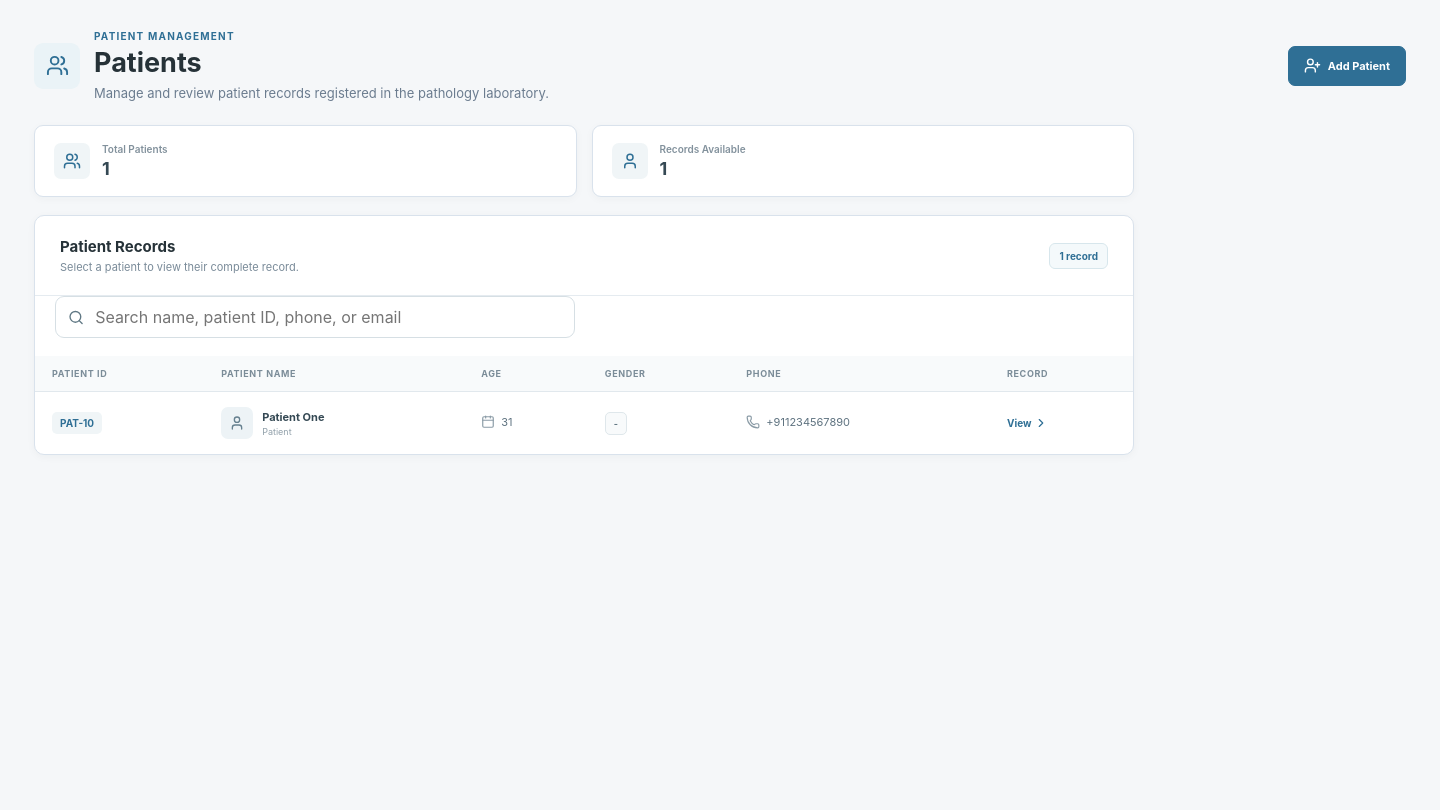
Test: patient directory search › filters existing records without changing the API data
Expected: the text "Patient One" is shown, [262,410,324,424]
Type "PAT-10" into the search field named "Search patient directory" at (328, 317), box [93,306,562,328]
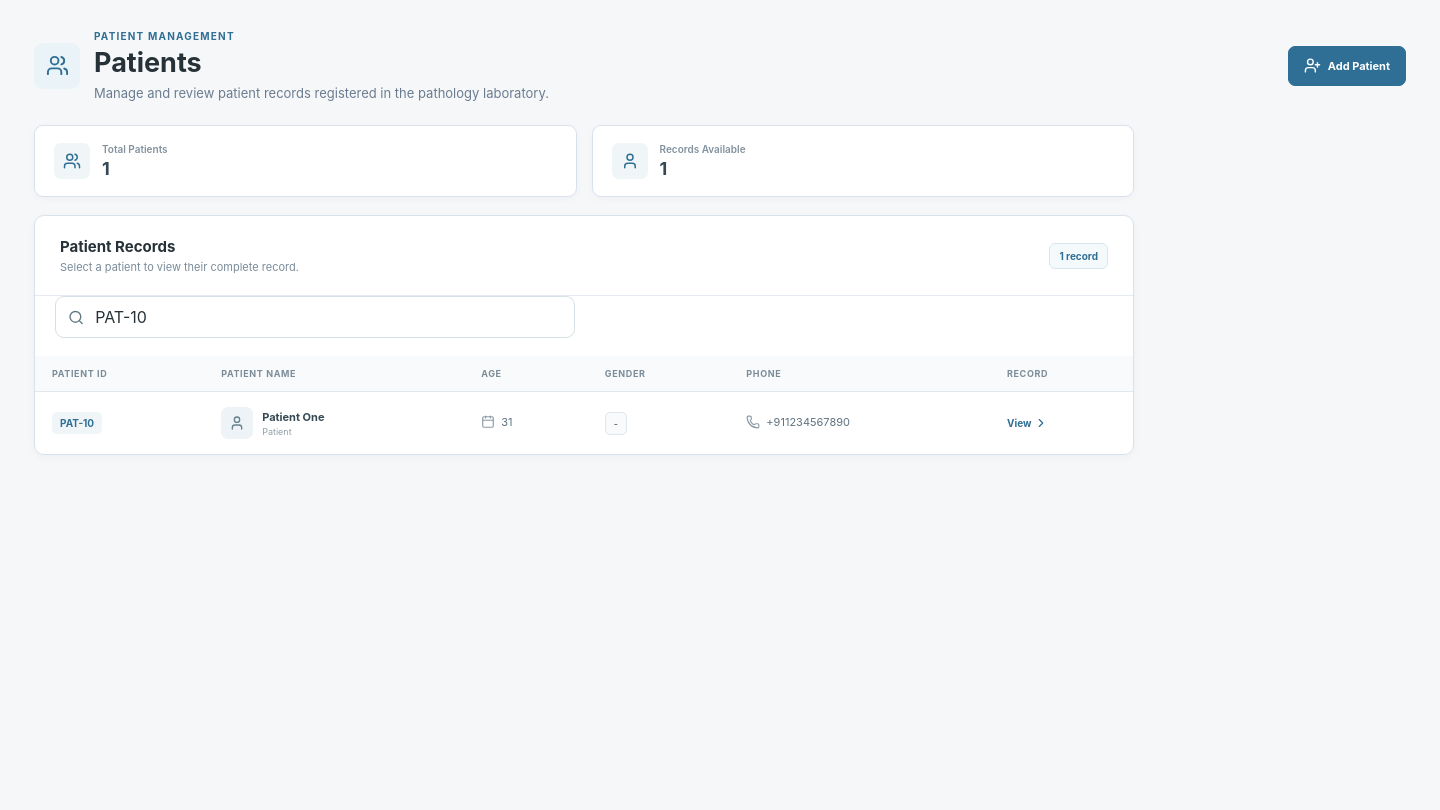
Expected: the text "Patient One" is shown, [262,410,324,424]
Replace the text in the search field named "Search patient directory" with "missing" at (328, 317), box [93,306,562,328]
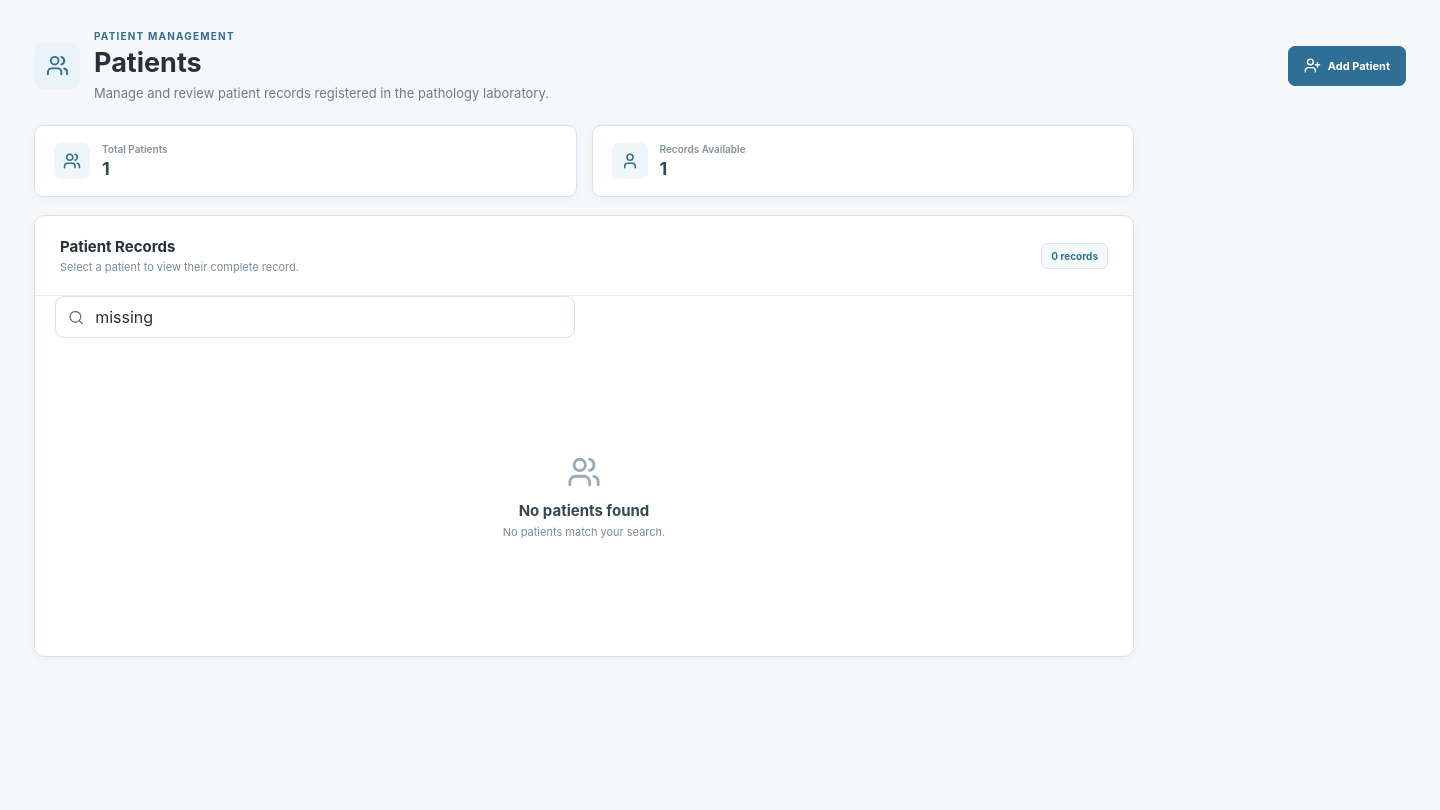
Expected: the text "No patients match your search." is shown, [503,525,665,539]
